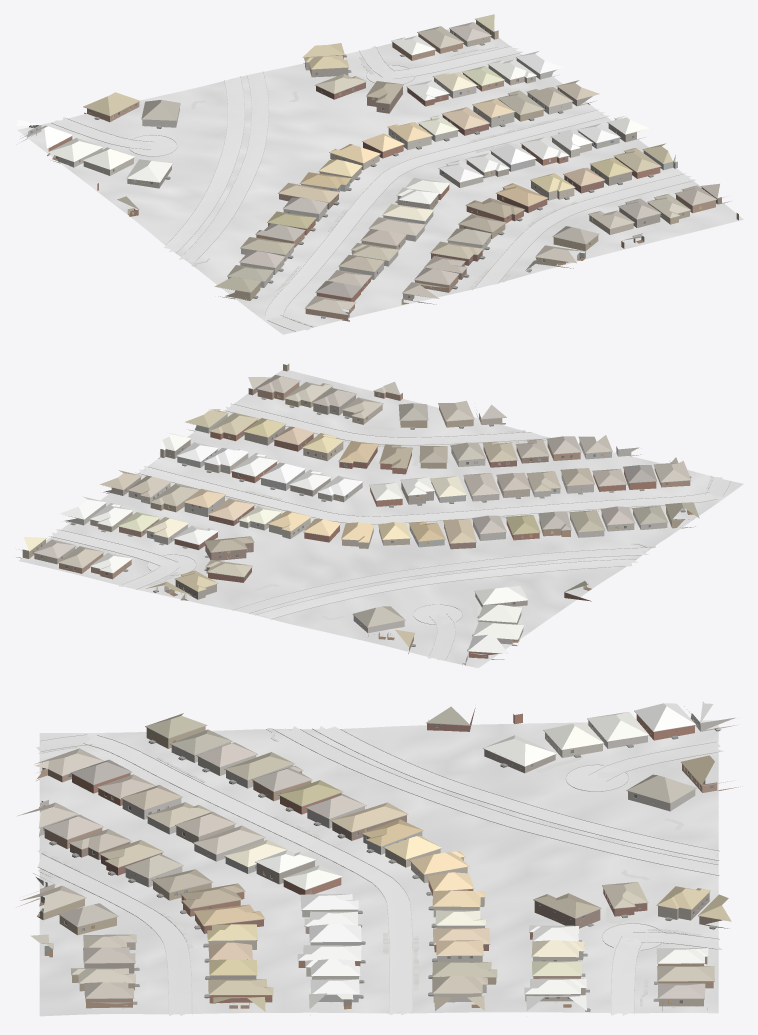
3 renders of one model, top to bottom at view 1: azimuth 30°, elevation 25°; view 2: azimuth 150°, elevation 25°; view 3: azimuth 270°, elevation 25°, orthographic. The views are drawn at different scales.
Parts seen in each view (by area): view 1: ground, roof, concrete, wall, asphalt, detail, wall_stucco, curb, wall_stone, walk; view 2: ground, roof, concrete, wall, asphalt, wall_stucco, curb, detail, wall_stone, walk, glass; view 3: ground, roof, concrete, wall, asphalt, detail, curb, wall_stucco, wall_stone, walk, mark_w, mark_y.
Part boxes in pixels (x1=…): ground: x1=17, y1=23, x2=743, y2=334; roof: x1=15, y1=14, x2=719, y2=314; concrete: x1=52, y1=46, x2=695, y2=331; wall: x1=47, y1=20, x2=738, y2=321; asphalt: x1=164, y1=71, x2=268, y2=262; detail: x1=20, y1=19, x2=726, y2=318; wall_stucco: x1=83, y1=93, x2=677, y2=274; curb: x1=51, y1=46, x2=694, y2=331; wall_stone: x1=16, y1=58, x2=559, y2=304; walk: x1=134, y1=46, x2=583, y2=326; ground: x1=19, y1=370, x2=743, y2=668; roof: x1=23, y1=375, x2=699, y2=655; concrete: x1=51, y1=403, x2=730, y2=660; wall: x1=16, y1=364, x2=695, y2=659; asphalt: x1=234, y1=547, x2=648, y2=619; wall_stucco: x1=128, y1=405, x2=634, y2=624; curb: x1=49, y1=403, x2=730, y2=660; detail: x1=19, y1=377, x2=693, y2=665; wall_stone: x1=65, y1=440, x2=667, y2=645; walk: x1=59, y1=426, x2=712, y2=619; glass: x1=32, y1=388, x2=668, y2=656; ground: x1=39, y1=720, x2=718, y2=1016; roof: x1=18, y1=701, x2=731, y2=1011; concrete: x1=36, y1=735, x2=723, y2=1015; wall: x1=16, y1=708, x2=740, y2=1010; asphalt: x1=278, y1=726, x2=718, y2=874; detail: x1=30, y1=706, x2=733, y2=1011; curb: x1=38, y1=728, x2=721, y2=1014; wall_stucco: x1=125, y1=732, x2=602, y2=1002; wall_stone: x1=39, y1=713, x2=738, y2=961; walk: x1=38, y1=728, x2=700, y2=1006; mark_w: x1=275, y1=729, x2=719, y2=875; mark_y: x1=299, y1=728, x2=718, y2=865.
Size of the model in its own units: 267 by 14.3 by 269.
